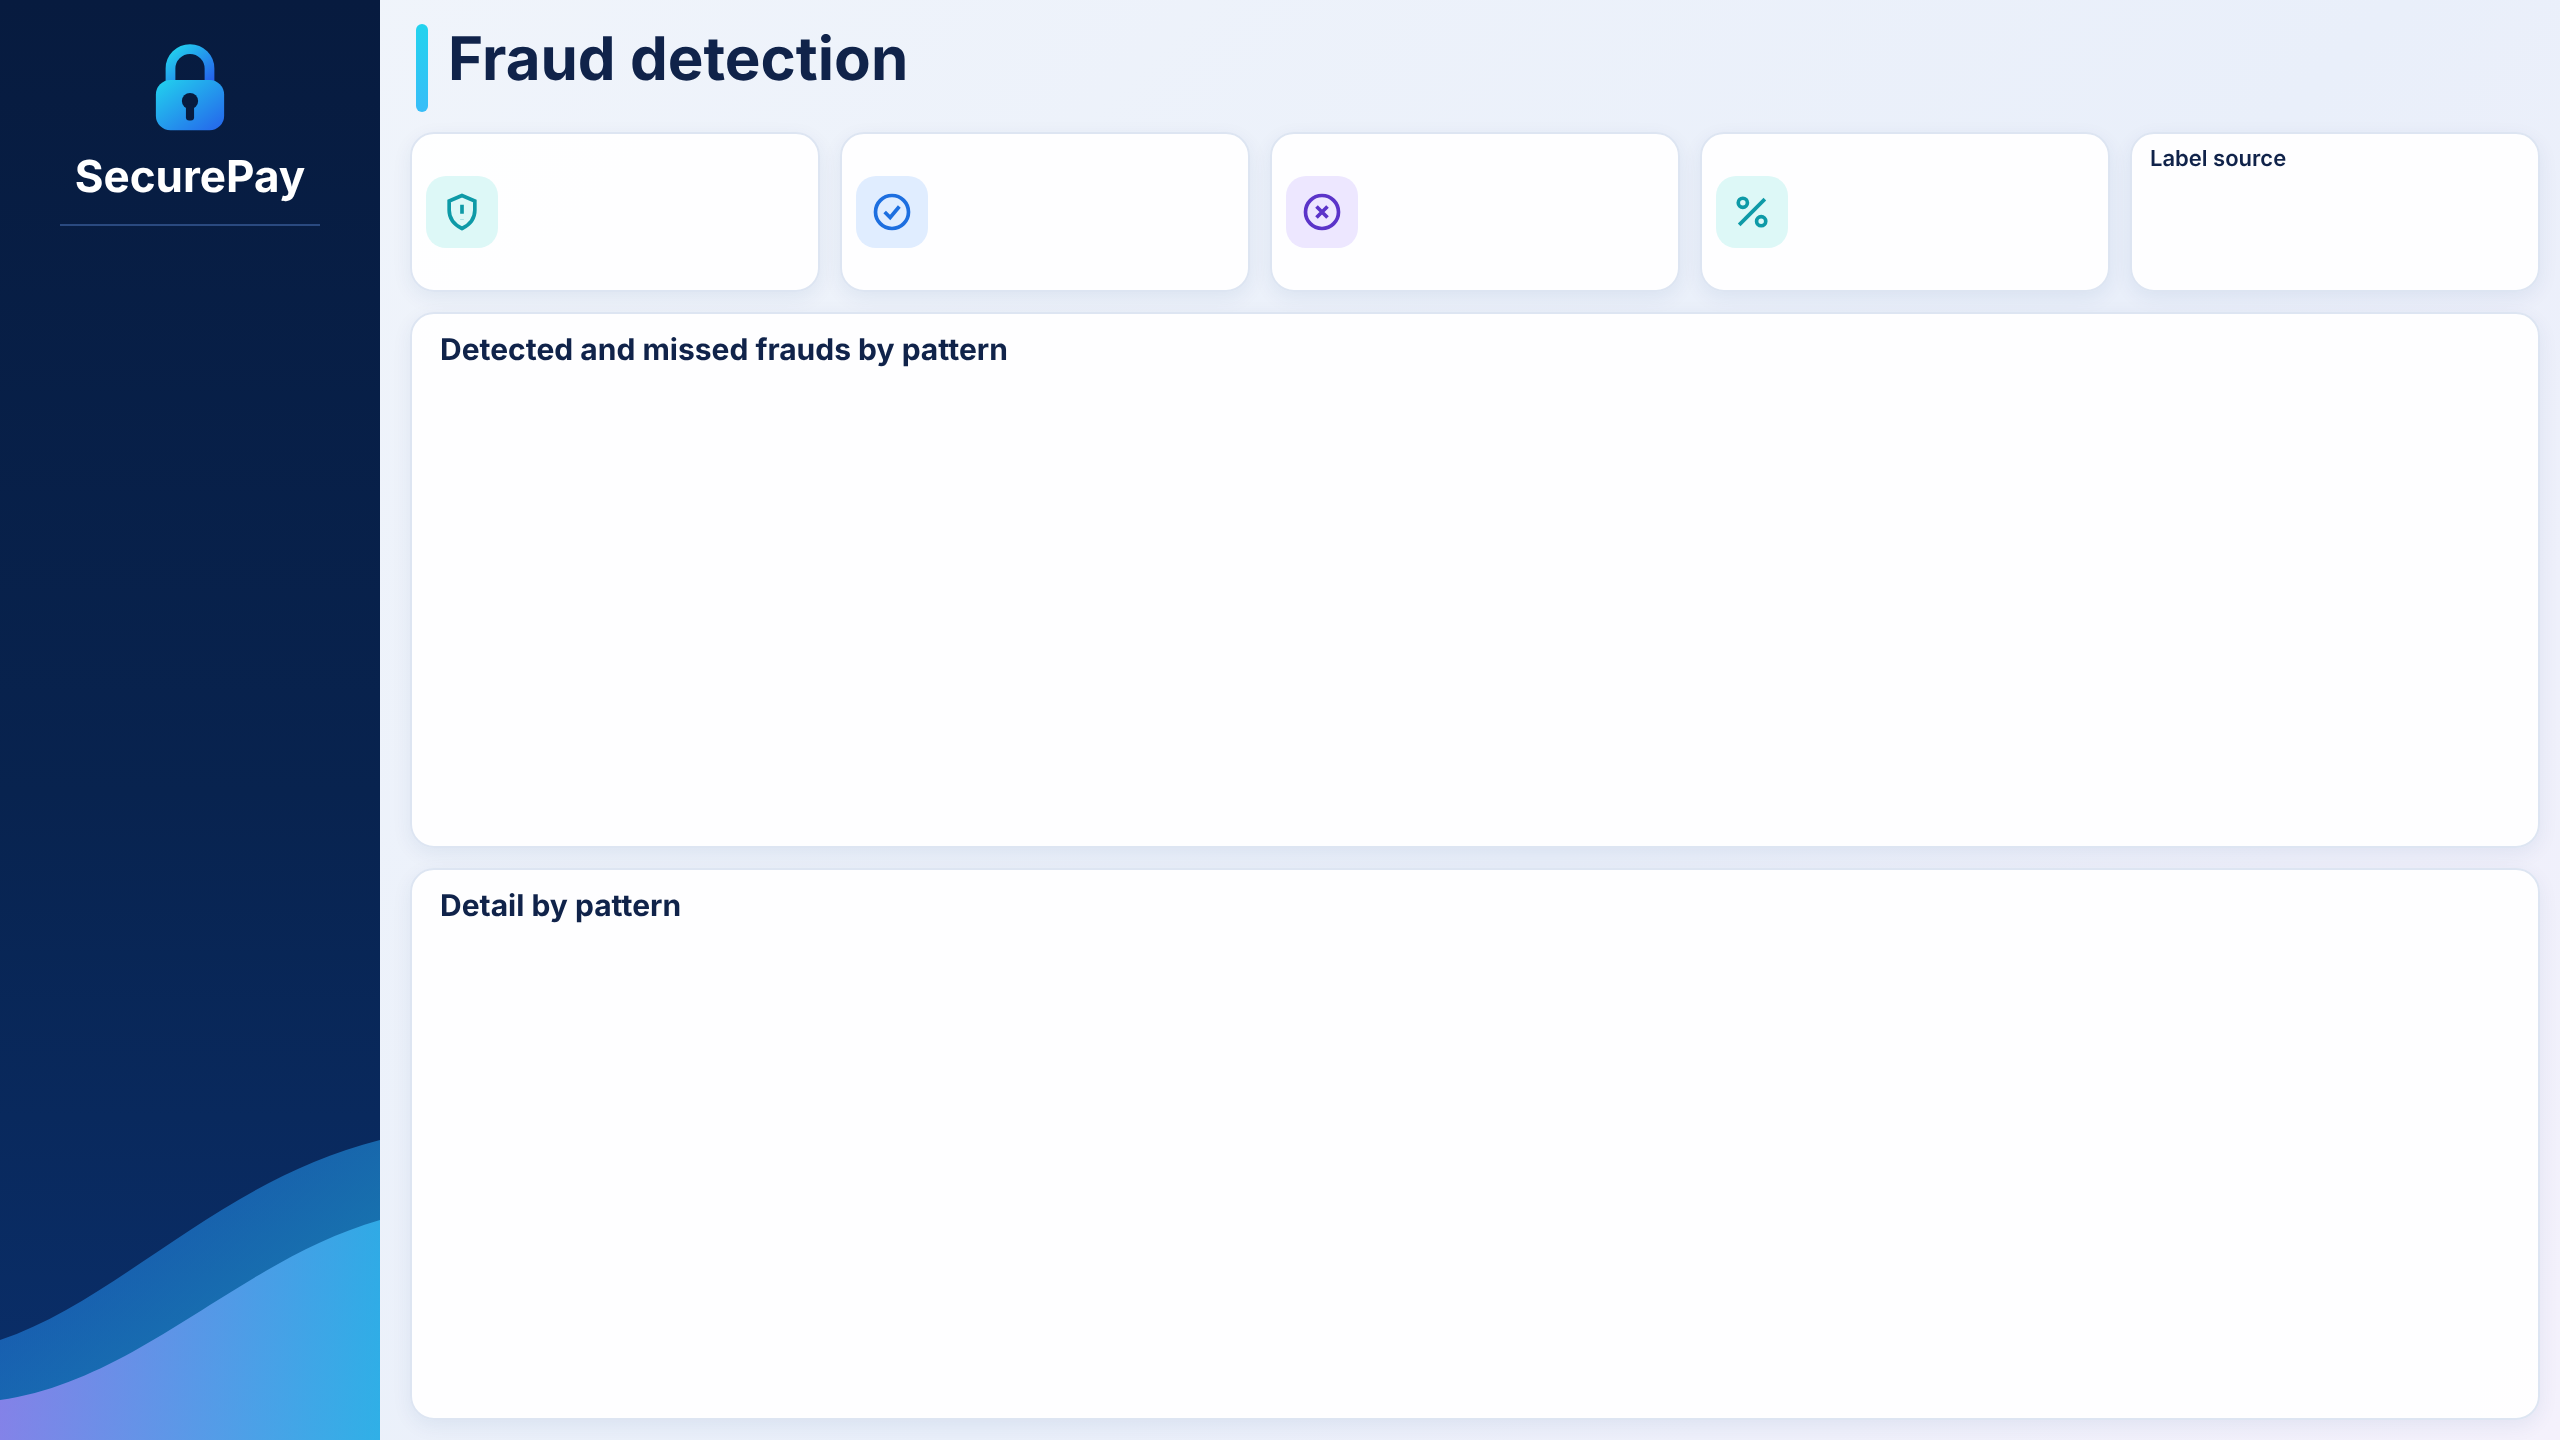

Layout of this report page (visuals, bound fields, positions):
{"tool":"powerbi","page":{"name":"Fraud detection","canvas":[1920,1080],"ordinal":5},"visuals":[{"type":"cardVisual","fields":{"Data":["q3_fraud_detection.Total Frauds","q3_fraud_detection.Detected Frauds","q3_fraud_detection.Missed Frauds","q3_fraud_detection.Detection Rate"]},"box":[365,104,1290,110],"z":0},{"type":"columnChart","fields":{"Category":["q3_fraud_detection.pattern"],"Y":["q3_fraud_detection.Detected Frauds","q3_fraud_detection.Missed Frauds"]},"box":[322,282,1568,345],"z":1000},{"type":"tableEx","fields":{"Values":["q3_fraud_detection.pattern","q3_fraud_detection.label_source","q3_fraud_detection.frauds","q3_fraud_detection.detected","q3_fraud_detection.missed","q3_fraud_detection.detection_rate","q3_fraud_detection.top_rule"]},"box":[322,700,1039,350],"z":2000},{"type":"slicer","fields":{"Values":["q3_fraud_detection.label_source"]},"box":[1610,132,283,84],"z":4000},{"type":"pageNavigator","box":[15,190,255,480],"z":4001}]}

Visuals, with their boxes in screenshot pixels (x1, y1, x2, y2), scaled from the page's 1920x1080 canvas onto the 2560x1440 screenshot:
cardVisual - q3_fraud_detection.Total Frauds x q3_fraud_detection.Detected Frauds: {"x1": 487, "y1": 139, "x2": 2207, "y2": 285}
columnChart - q3_fraud_detection.pattern x q3_fraud_detection.Detected Frauds: {"x1": 429, "y1": 376, "x2": 2520, "y2": 836}
tableEx - q3_fraud_detection.pattern x q3_fraud_detection.label_source: {"x1": 429, "y1": 933, "x2": 1815, "y2": 1400}
slicer - q3_fraud_detection.label_source: {"x1": 2147, "y1": 176, "x2": 2524, "y2": 288}
pageNavigator: {"x1": 20, "y1": 253, "x2": 360, "y2": 893}
